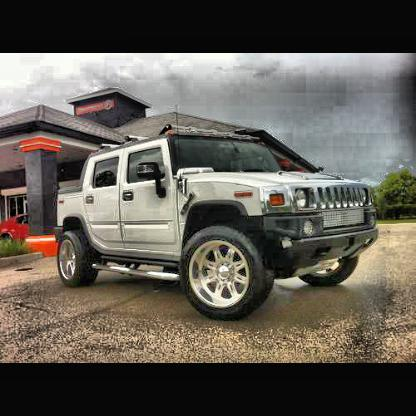HUMMER H2 SUT Crew Cab 2009: (56, 126, 379, 320)
